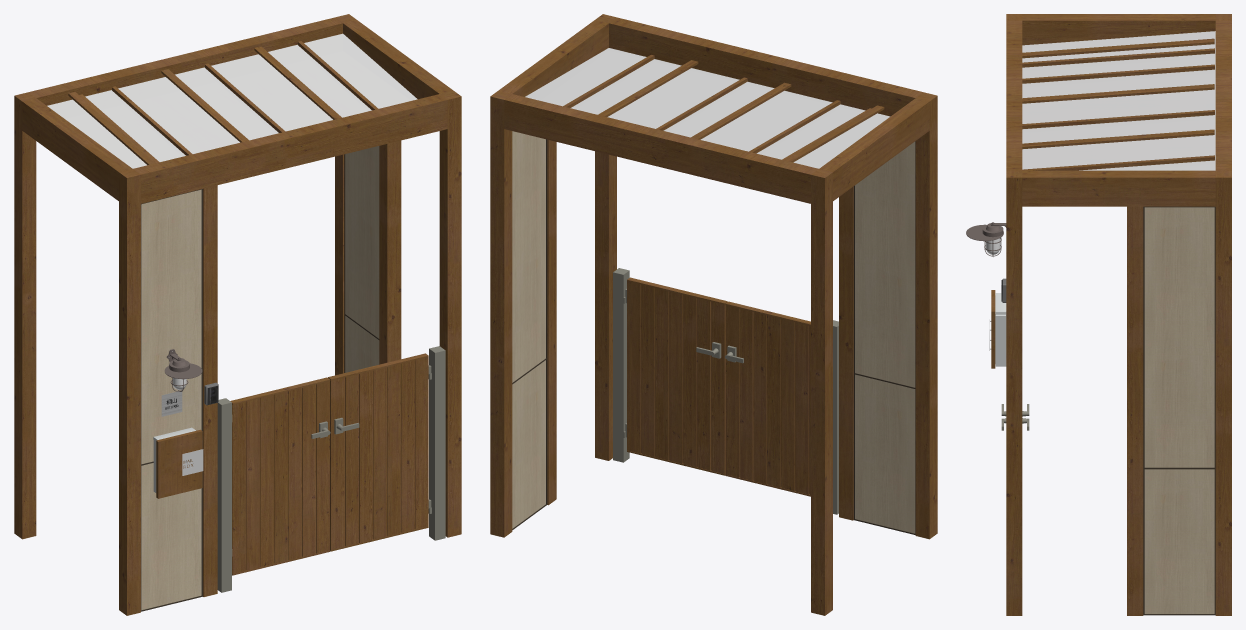
Rendered from hy1_naturalpine.fbx.
3 renders of one model, left to right at view 1: azimuth 30°, elevation 25°; view 2: azimuth 150°, elevation 25°; view 3: azimuth 270°, elevation 25°, orthographic.
Visible parts, largest first — view 1: hy1-naturalpine; view 2: hy1-naturalpine; view 3: hy1-naturalpine.
Part boxes in pixels (<box>): hy1-naturalpine: <box>14,14,461,615</box>; hy1-naturalpine: <box>490,14,937,615</box>; hy1-naturalpine: <box>966,14,1231,615</box>.
Bounding box in the file's own units: 240 × 300 × 165.
18 materials, 9 textured.
